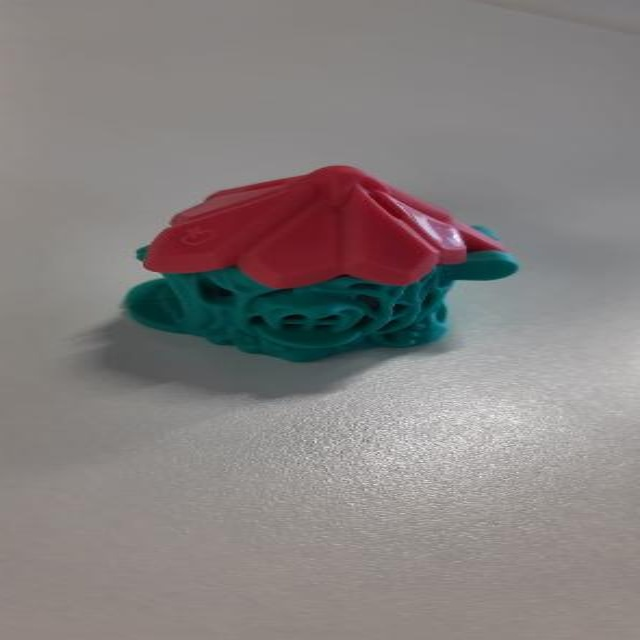House: (107, 150, 535, 366)
